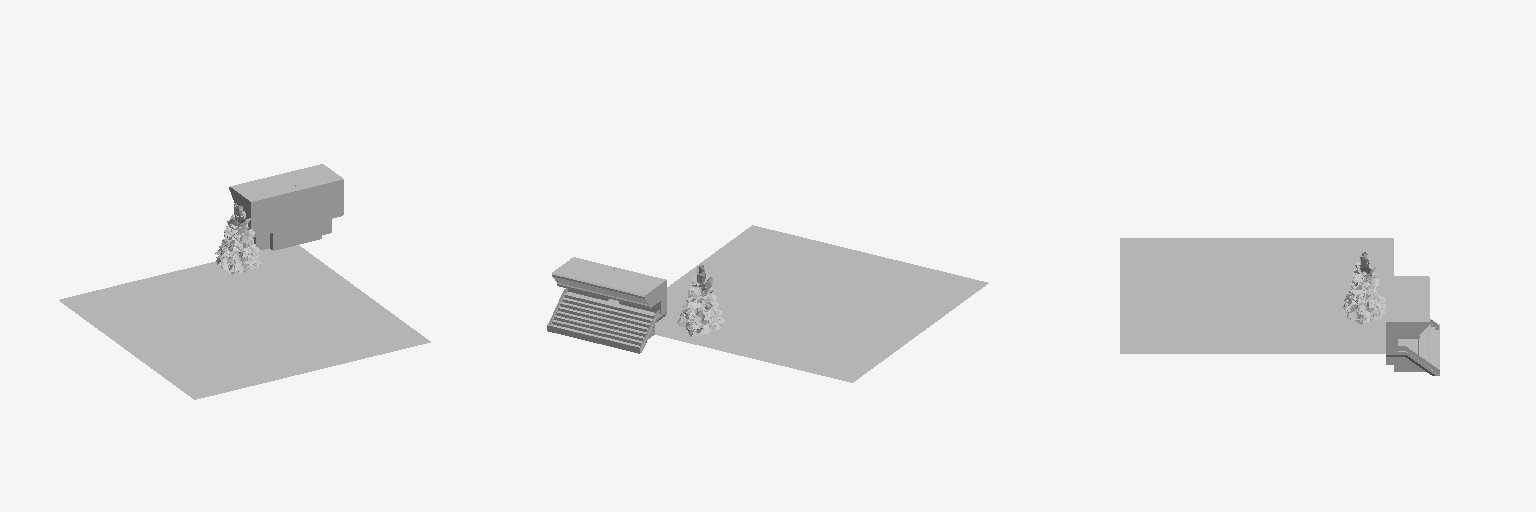
3 renders of one model, left to right at view 1: azimuth 30°, elevation 25°; view 2: azimuth 150°, elevation 25°; view 3: azimuth 270°, elevation 25°, orthographic.
Visible parts, largest first — view 1: Grass_Surround_Big.001_Grass_Surround_Big, Grandstands_Concrete, treeBranches2; view 2: Grass_Surround_Big.001_Grass_Surround_Big, Grandstands_Concrete, Grandstands_Seats, treeBranches2; view 3: Grass_Surround_Big.001_Grass_Surround_Big, Grandstands_Concrete, treeBranches2, Grandstands_Seats.
Part boxes in pixels (bbox=[...]): Grass_Surround_Big.001_Grass_Surround_Big: bbox=[59, 245, 430, 399]; Grandstands_Concrete: bbox=[224, 164, 343, 250]; treeBranches2: bbox=[215, 203, 262, 274]; Grass_Surround_Big.001_Grass_Surround_Big: bbox=[655, 225, 988, 382]; Grandstands_Concrete: bbox=[547, 257, 666, 353]; Grandstands_Seats: bbox=[551, 294, 653, 346]; treeBranches2: bbox=[677, 265, 724, 336]; Grass_Surround_Big.001_Grass_Surround_Big: bbox=[1120, 238, 1393, 353]; Grandstands_Concrete: bbox=[1386, 276, 1439, 375]; treeBranches2: bbox=[1341, 252, 1385, 324]; Grandstands_Seats: bbox=[1405, 324, 1438, 368].
Bounding box in the file's own units: 0.5967 × 0.2057 × 0.5849.